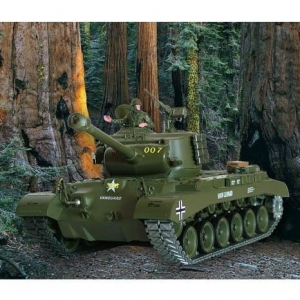Battle Tank: (16, 116, 289, 263)
